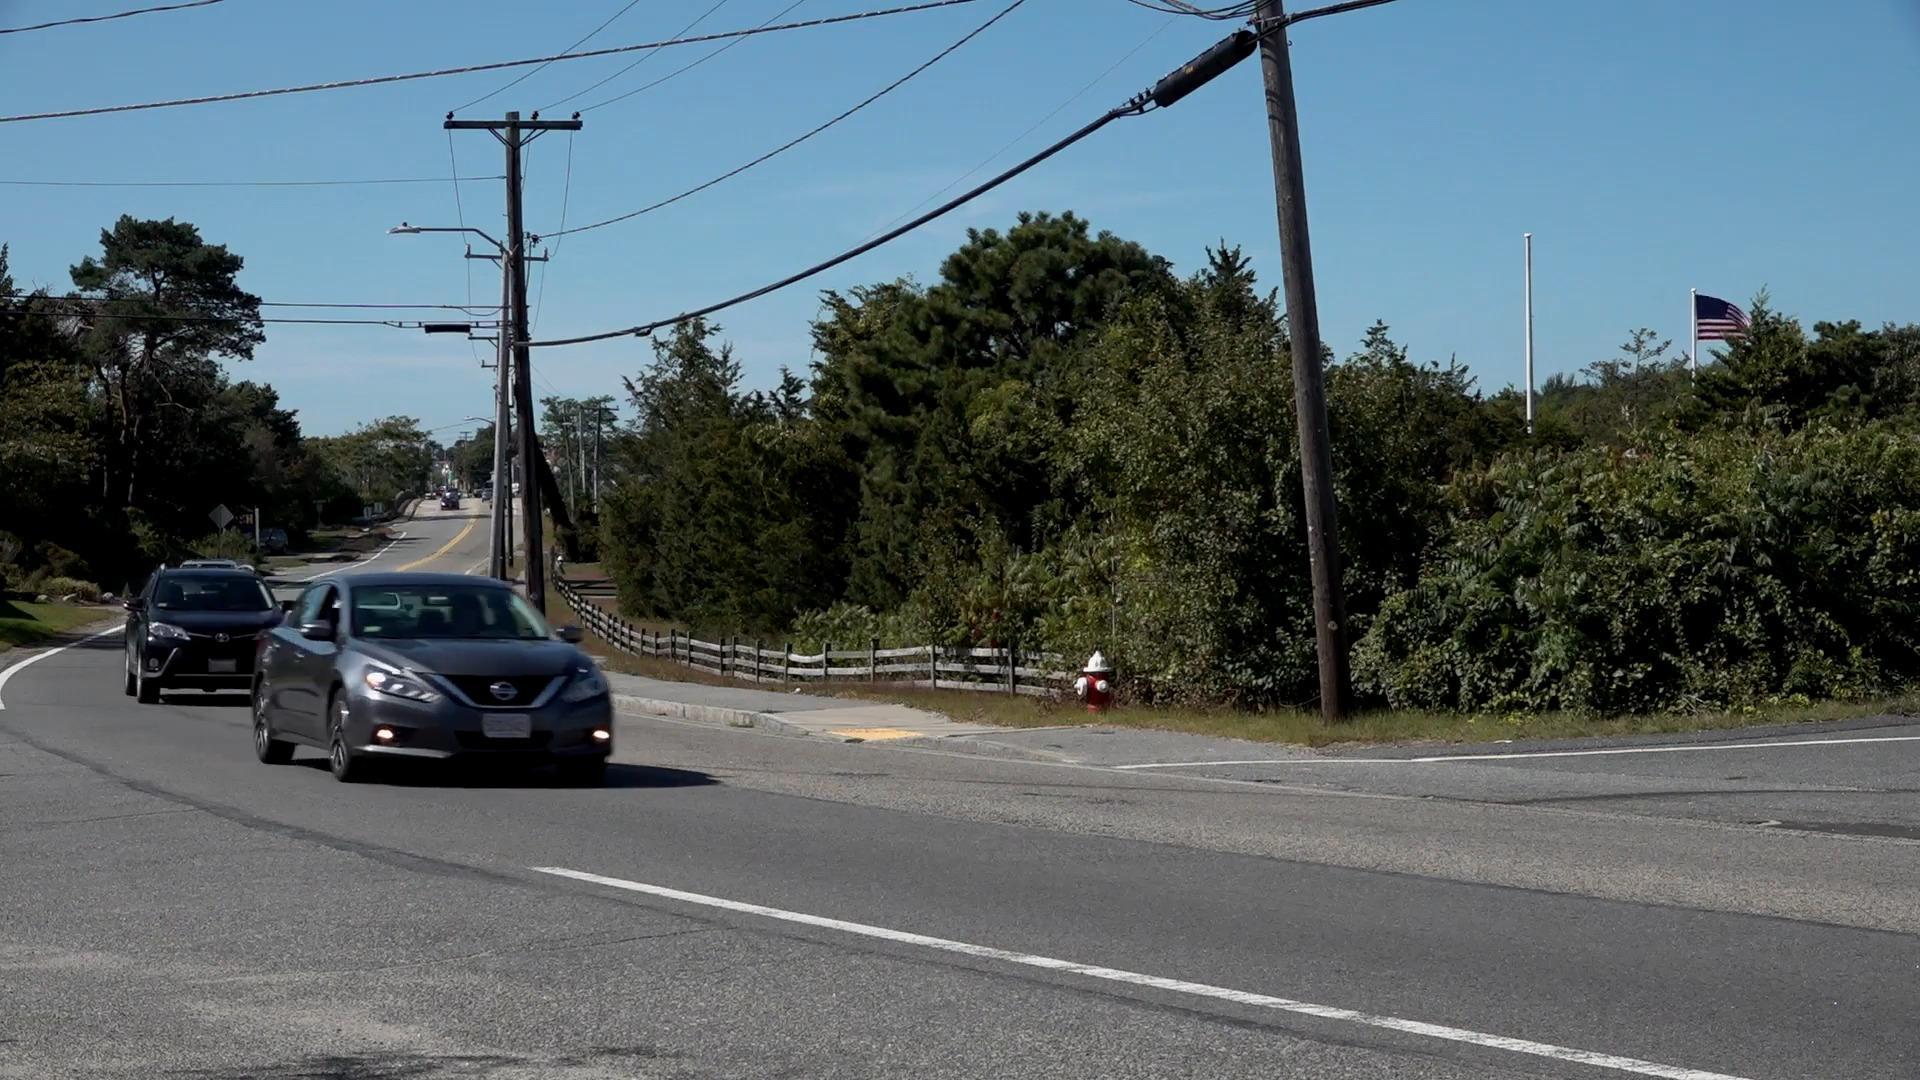sedans: (255, 568, 615, 779)
suv: (124, 554, 301, 713)
